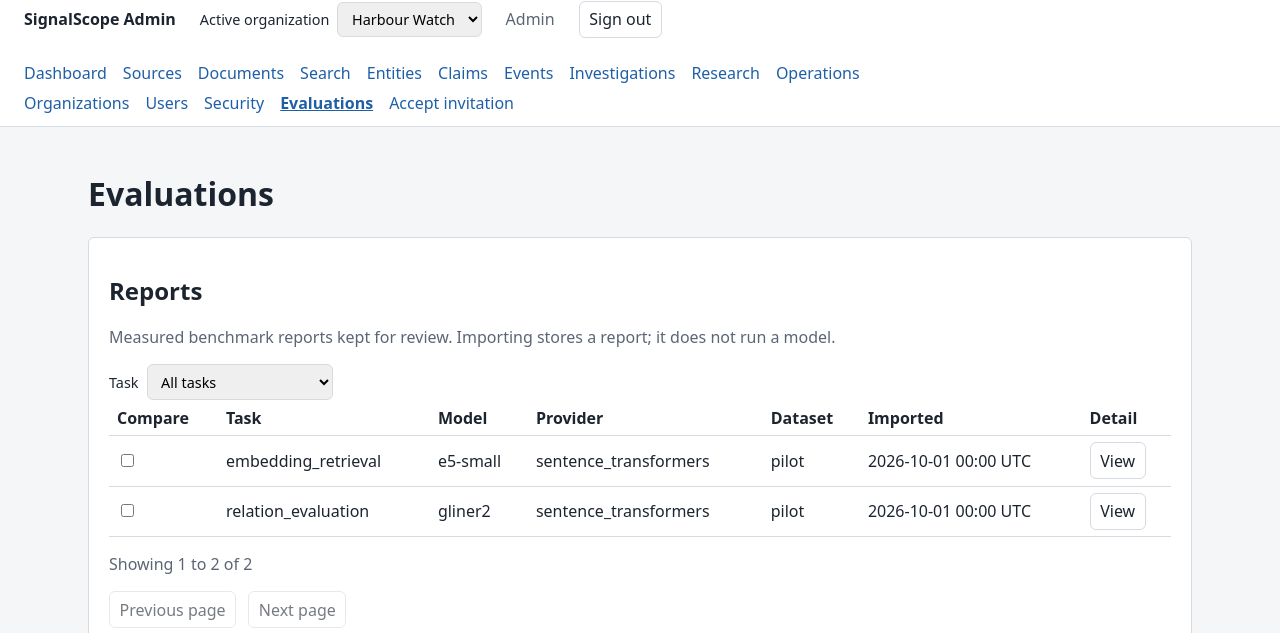
Test case: evaluation workspace › compares selected reports and shows deltas, no winner
Expected: the text "e5-small" is shown, [430, 436, 528, 486]
Step 1. Click the checkbox named "Compare e5-small" → (128, 460), box [121, 454, 134, 467]
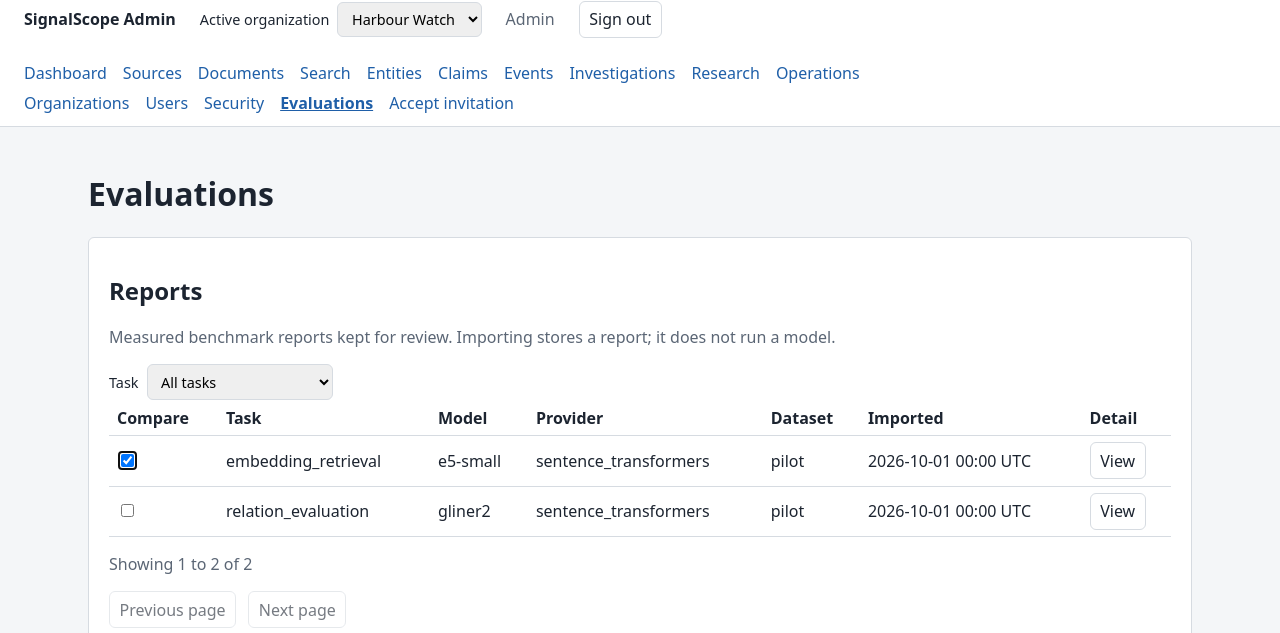
Step 2. Click the checkbox named "Compare gliner2" → (128, 511), box [121, 504, 134, 517]
(page scrolled)
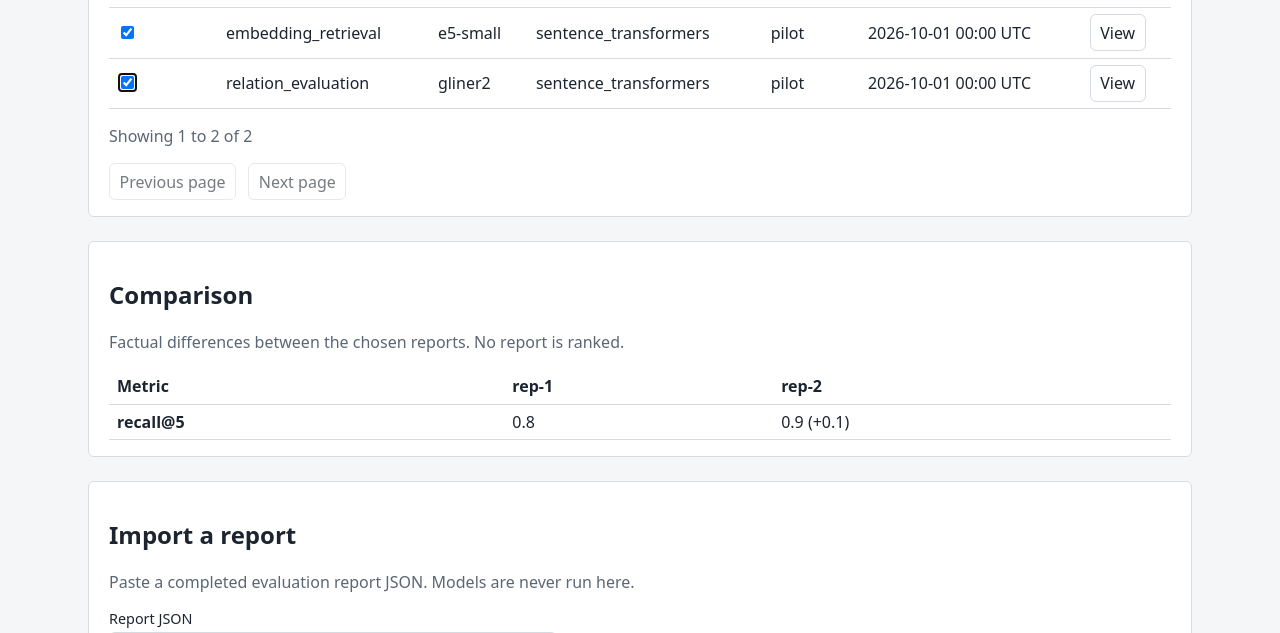
Expected: the column heading "recall@5" is shown, [109, 404, 504, 440]
Expected: the element "Comparison" shows "+0.1", [804, 411, 849, 433]
